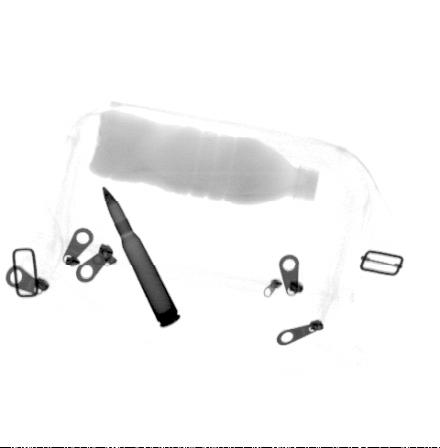Bullet: (102, 183, 180, 328)
